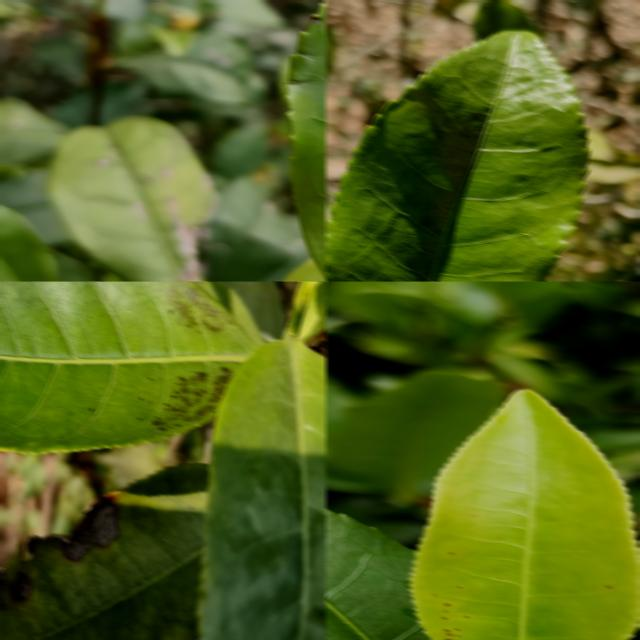Leaf: (326, 31, 588, 281), (411, 390, 640, 640), (0, 281, 255, 452), (200, 336, 326, 640), (0, 463, 208, 640), (49, 116, 215, 281), (332, 370, 505, 499), (0, 98, 70, 165), (0, 204, 59, 281), (219, 281, 284, 342), (473, 0, 538, 40), (326, 26, 336, 78)
